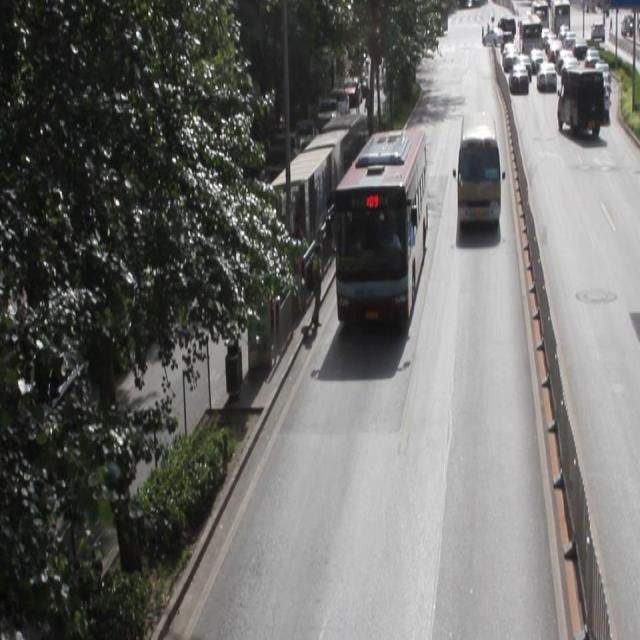truck: (456, 114, 501, 228), (555, 67, 601, 132)
van: (336, 130, 426, 325)
